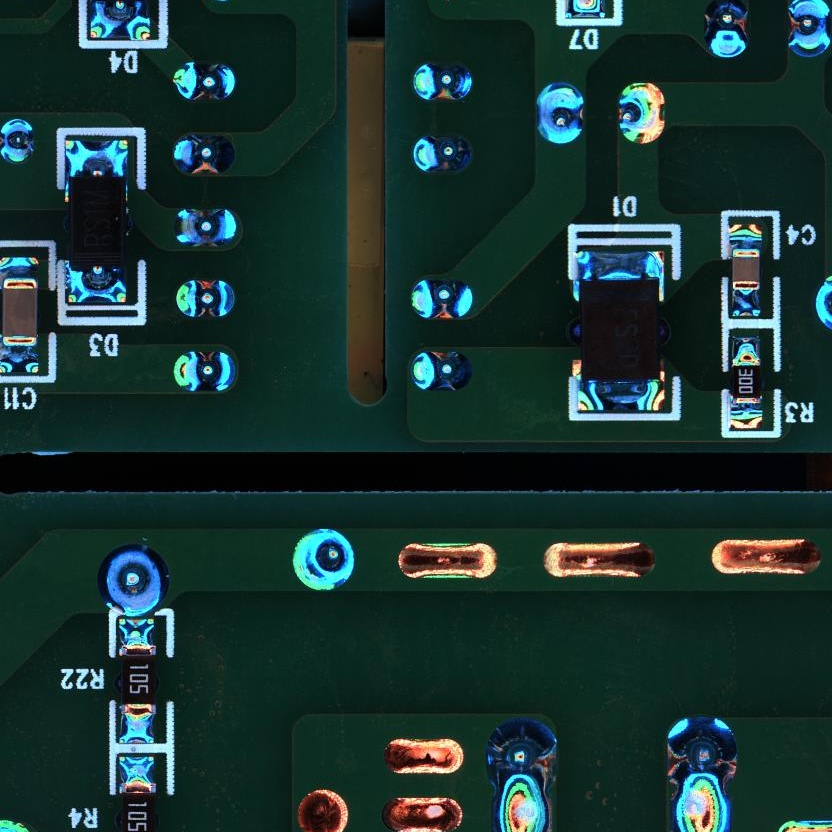spot: (484, 719, 561, 798), (95, 543, 172, 618), (664, 714, 738, 791), (288, 526, 356, 593), (532, 81, 586, 147), (617, 80, 668, 145), (170, 133, 237, 179), (173, 349, 239, 395), (170, 59, 238, 103), (409, 349, 474, 393), (783, 1, 832, 58), (409, 278, 475, 320), (173, 207, 237, 249), (411, 60, 474, 102), (703, 1, 749, 58), (412, 134, 477, 174), (174, 279, 235, 321), (1, 117, 37, 164)
